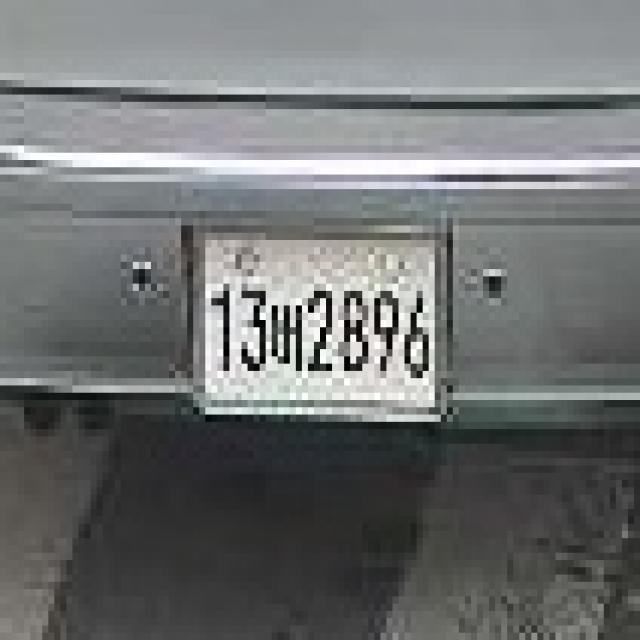1: (206, 276, 236, 386)
2: (308, 284, 338, 378)
3: (236, 284, 272, 386)
6: (398, 284, 441, 386)
8: (338, 276, 374, 386)
9: (374, 276, 404, 386)
beo: (272, 291, 308, 378)
license_plate: (175, 211, 459, 429)
